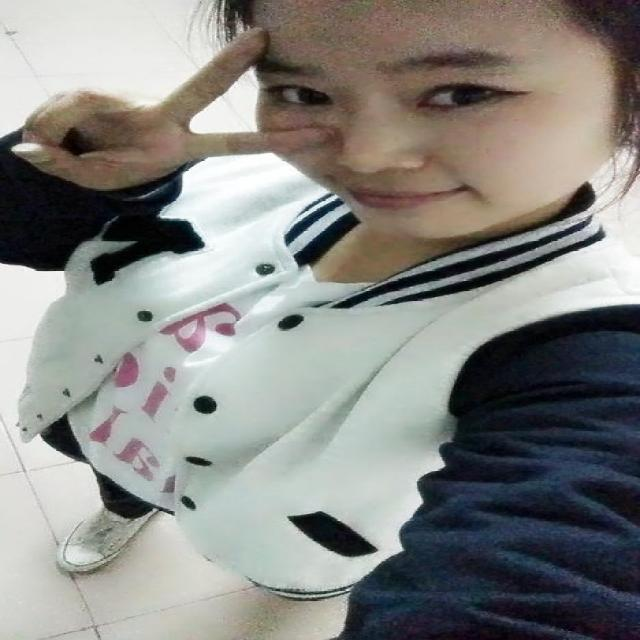long sleeve outwear: (170, 182, 640, 639)
